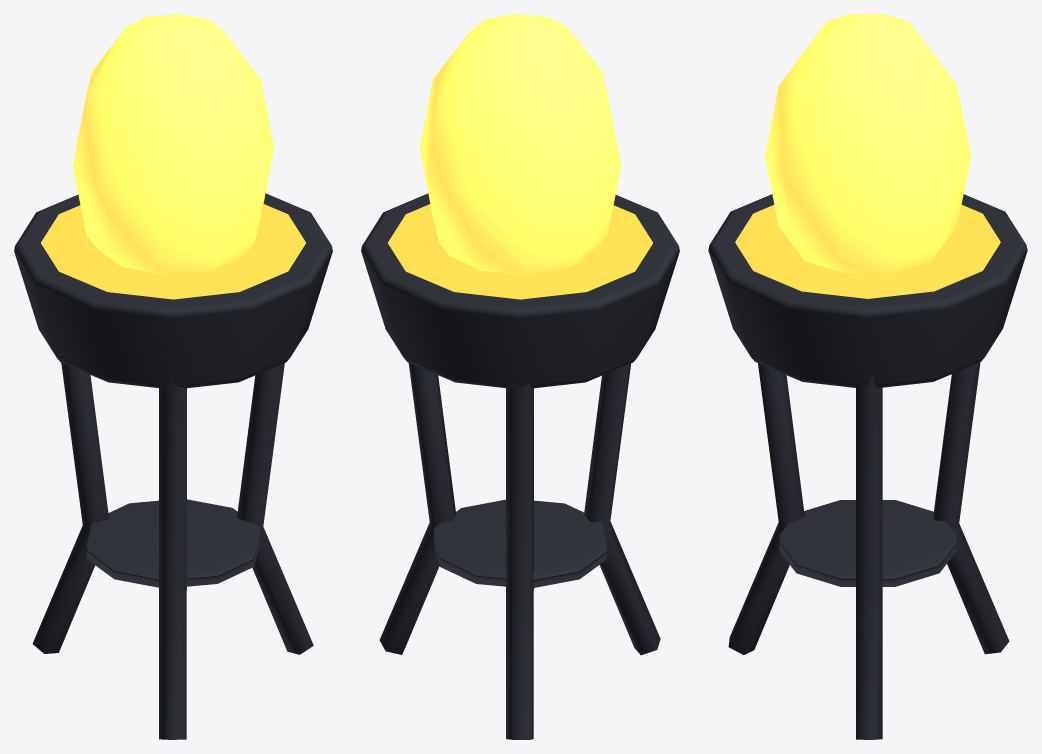
Rendered from faire_brazier.glb.
3 renders of one model, left to right at view 1: azimuth 30°, elevation 25°; view 2: azimuth 150°, elevation 25°; view 3: azimuth 270°, elevation 25°, orthographic.
Parts seen in each view (by area): view 1: Brazier; view 2: Brazier; view 3: Brazier.
Boxes of the visible parts, <box> form: Brazier: <box>14,14,332,739</box>; Brazier: <box>361,14,679,739</box>; Brazier: <box>708,14,1027,739</box>.
Size of the model in its own units: 1.09 by 2.49 by 1.08.
